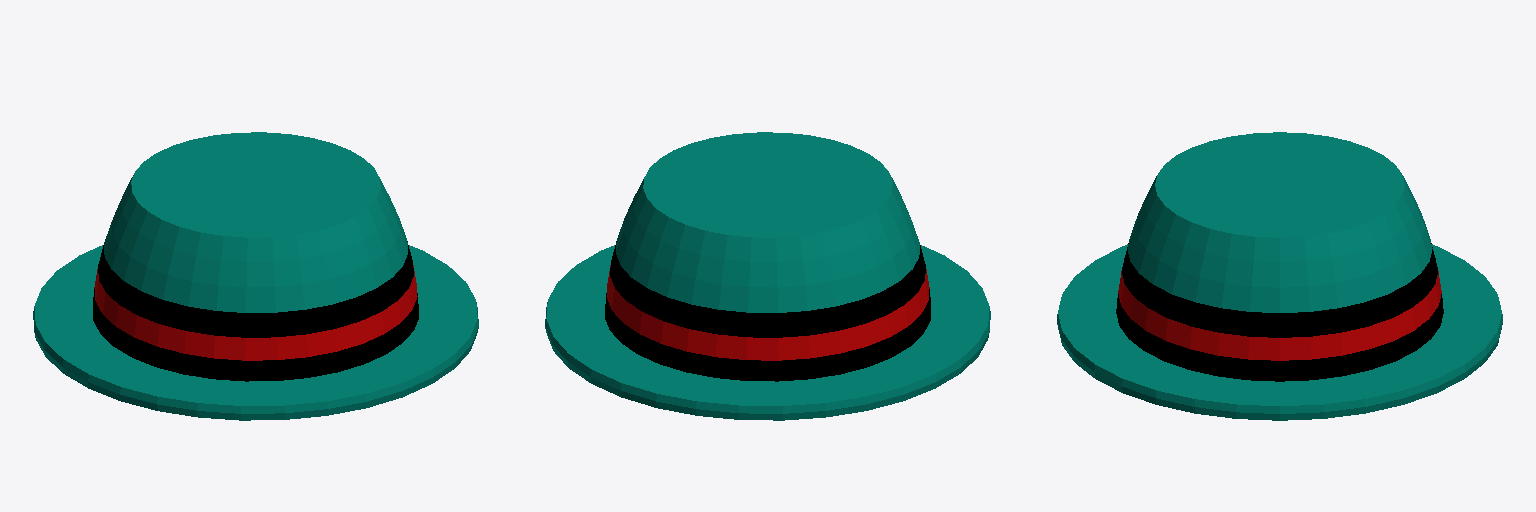
Rendered from DEV_HAT.obj.
3 views of the same model, side by side, from view 1: azimuth 30°, elevation 25°; view 2: azimuth 150°, elevation 25°; view 3: azimuth 270°, elevation 25° (orthographic).
Visible parts, largest first — view 1: Cylinder; view 2: Cylinder; view 3: Cylinder.
Part boxes in pixels (left/top/right/bottom): Cylinder: left=33, top=132, right=478, bottom=420; Cylinder: left=545, top=132, right=990, bottom=420; Cylinder: left=1057, top=132, right=1502, bottom=420.
Size of the model in its own units: 2.01 by 0.705 by 2.01.